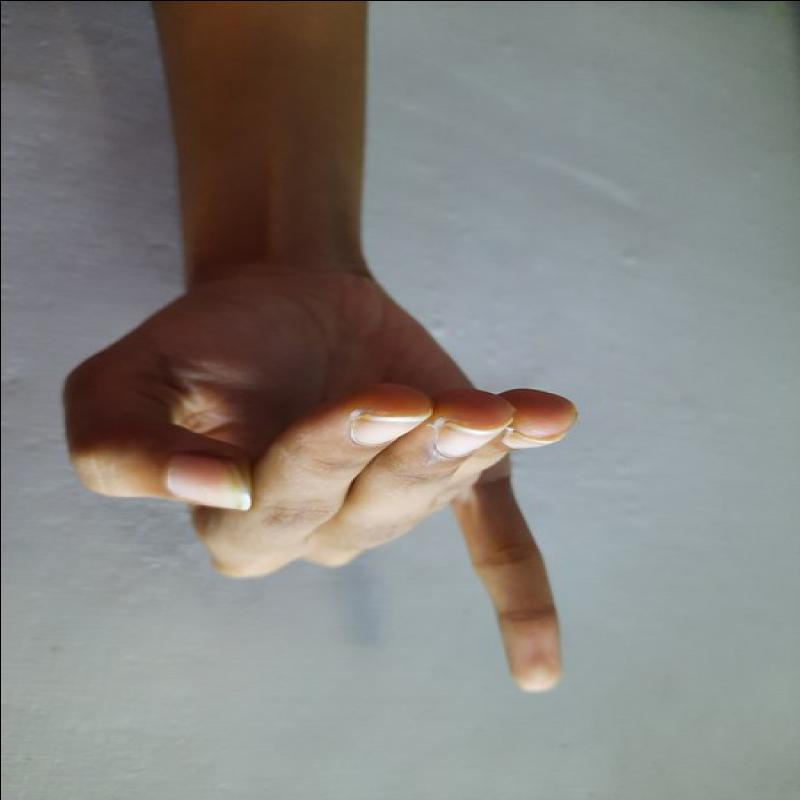Kartharee Mukham: (56, 223, 595, 705)
